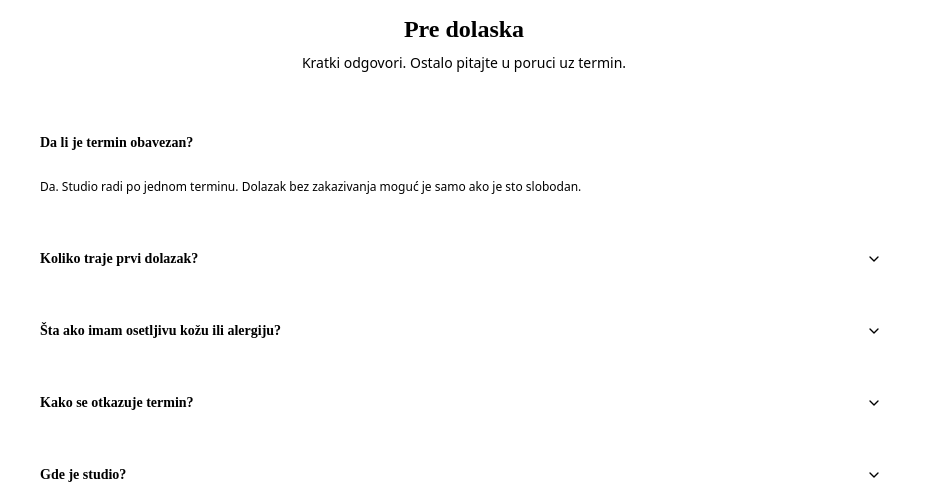
Test: LocationContact Component › renders and toggles FAQ items
(page scrolled)
expect the heading "Pre dolaska" is shown: met, box x1=404 y1=16 x2=524 y2=42
expect the text "Studio radi po jednom terminu" is shown: met, box x1=40 y1=178 x2=581 y2=195
What coordinates should you click on to do the following:
click the button "Šta ako imam osetljivu kožu ili alergiju?"
I would click on:
 (161, 330)
Its box is x1=16 y1=300 x2=912 y2=360.
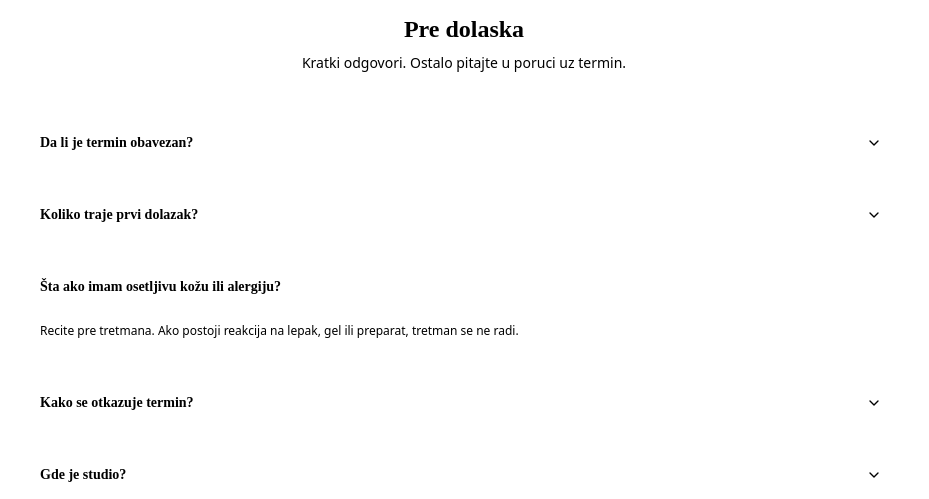
expect the text "Recite pre tretmana" is shown: met, box x1=40 y1=322 x2=519 y2=339
